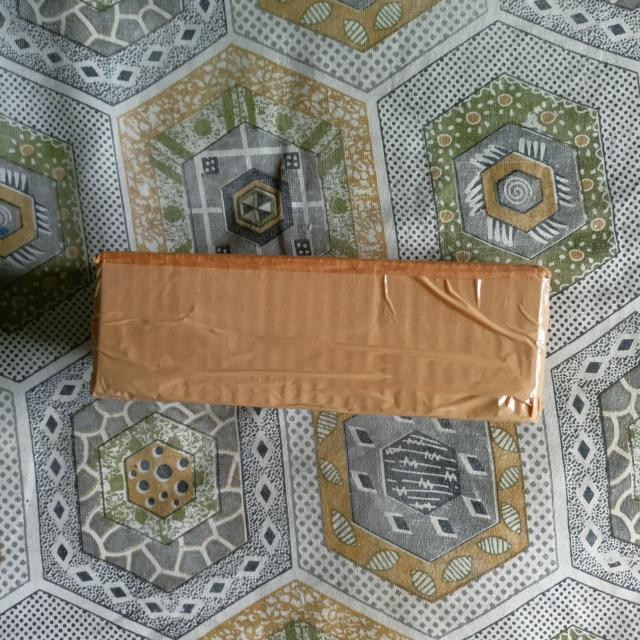box: (93, 252, 546, 422)
